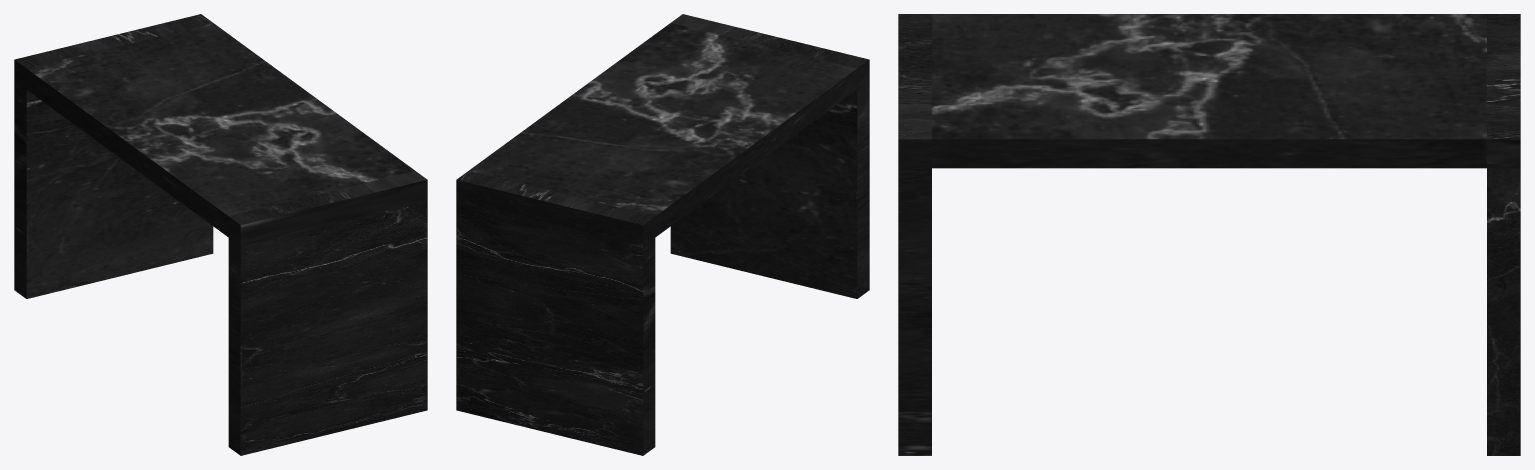
File: mesaV3.fbx
The picture shows the model from 3 angles, left to right: view 1: azimuth 30°, elevation 25°; view 2: azimuth 150°, elevation 25°; view 3: azimuth 270°, elevation 25°; orthographic projection. The views are drawn at different scales.
Parts seen in each view (by area): view 1: Table; view 2: Table; view 3: Table.
Part boxes in pixels (bbox=[...]): Table: bbox=[14, 14, 427, 455]; Table: bbox=[456, 14, 869, 455]; Table: bbox=[898, 14, 1520, 455].
Size of the model in its own units: 233 by 275 by 490.
